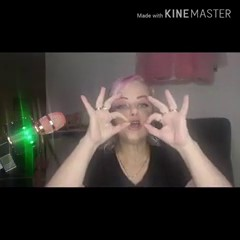B: (68, 85, 198, 154)
